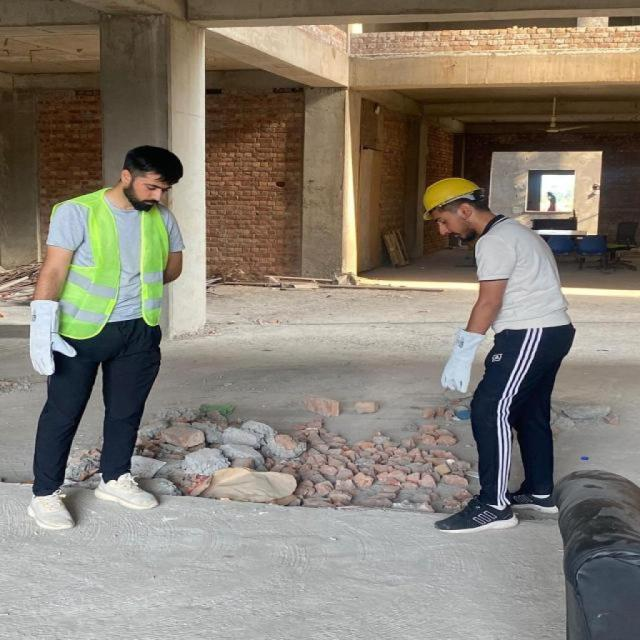Gloves-Detection: (22, 299, 78, 374), (444, 322, 478, 393)
